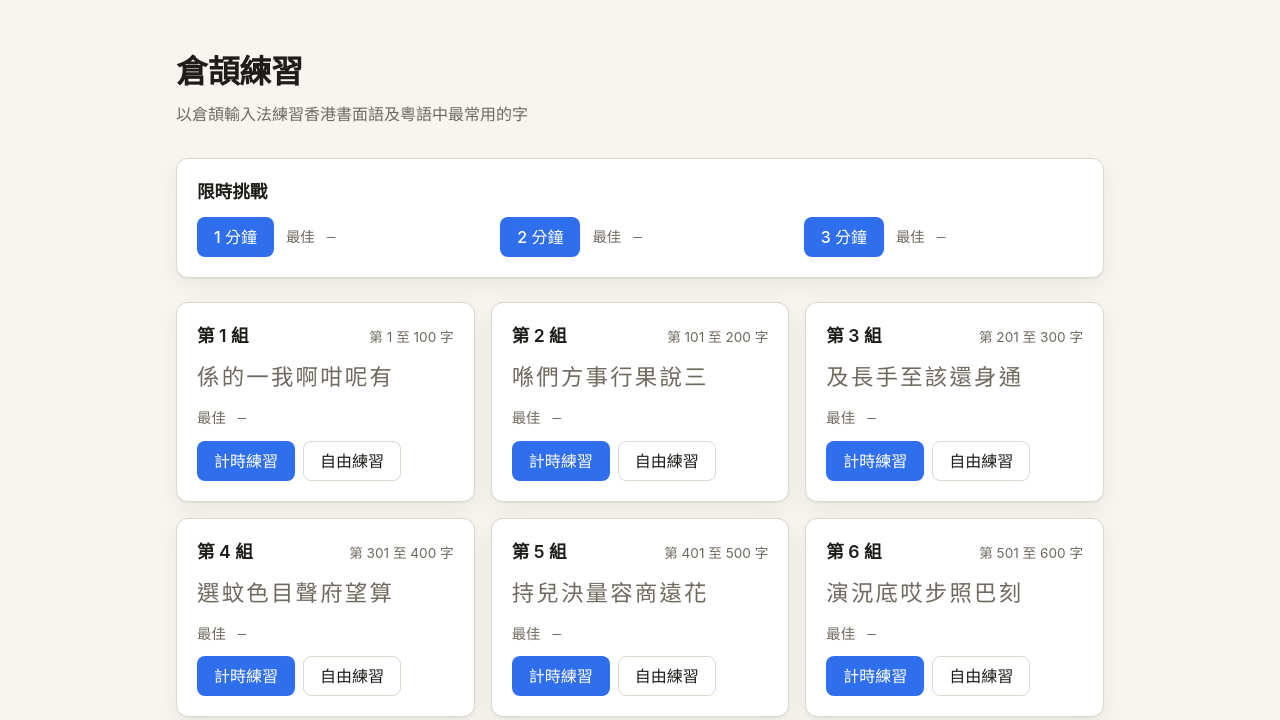
Test: App › starts a time attack from the home card
Step 1. Click the button "1 分鐘" → (235, 237), box [197, 217, 274, 257]
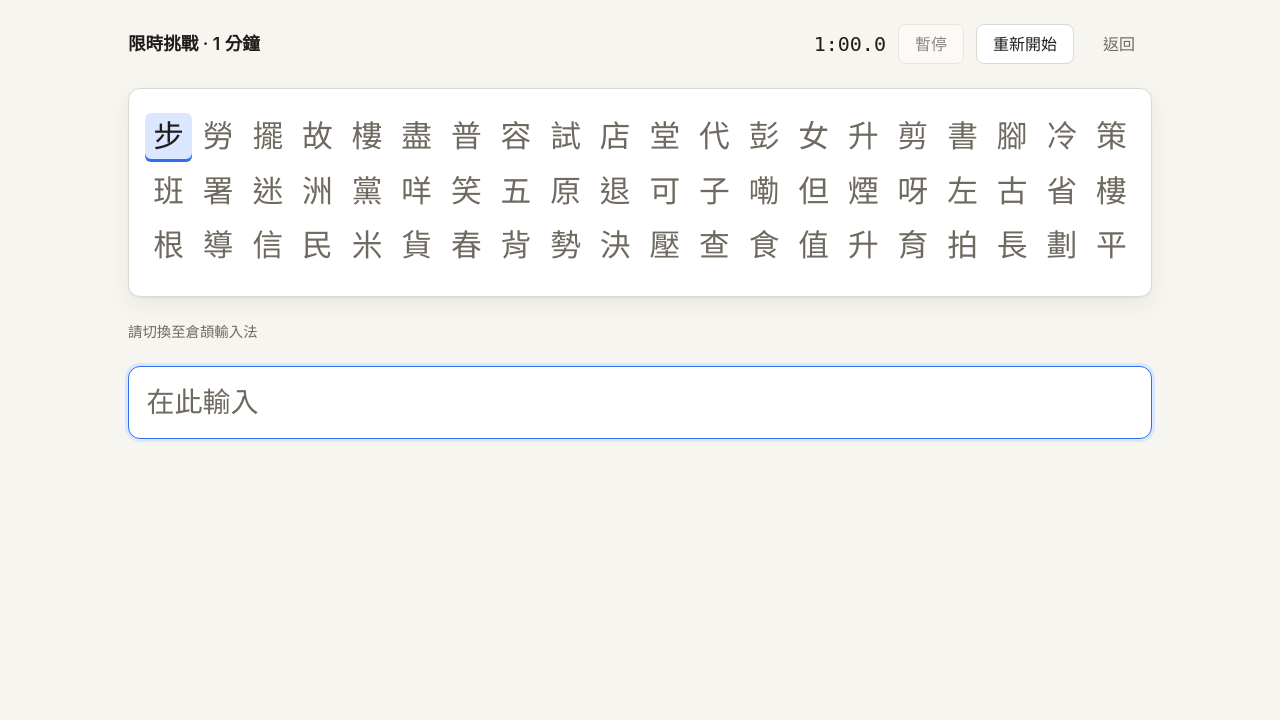
expect the element named "剩餘" reads "1:00.0": met, box [814, 32, 886, 56]
